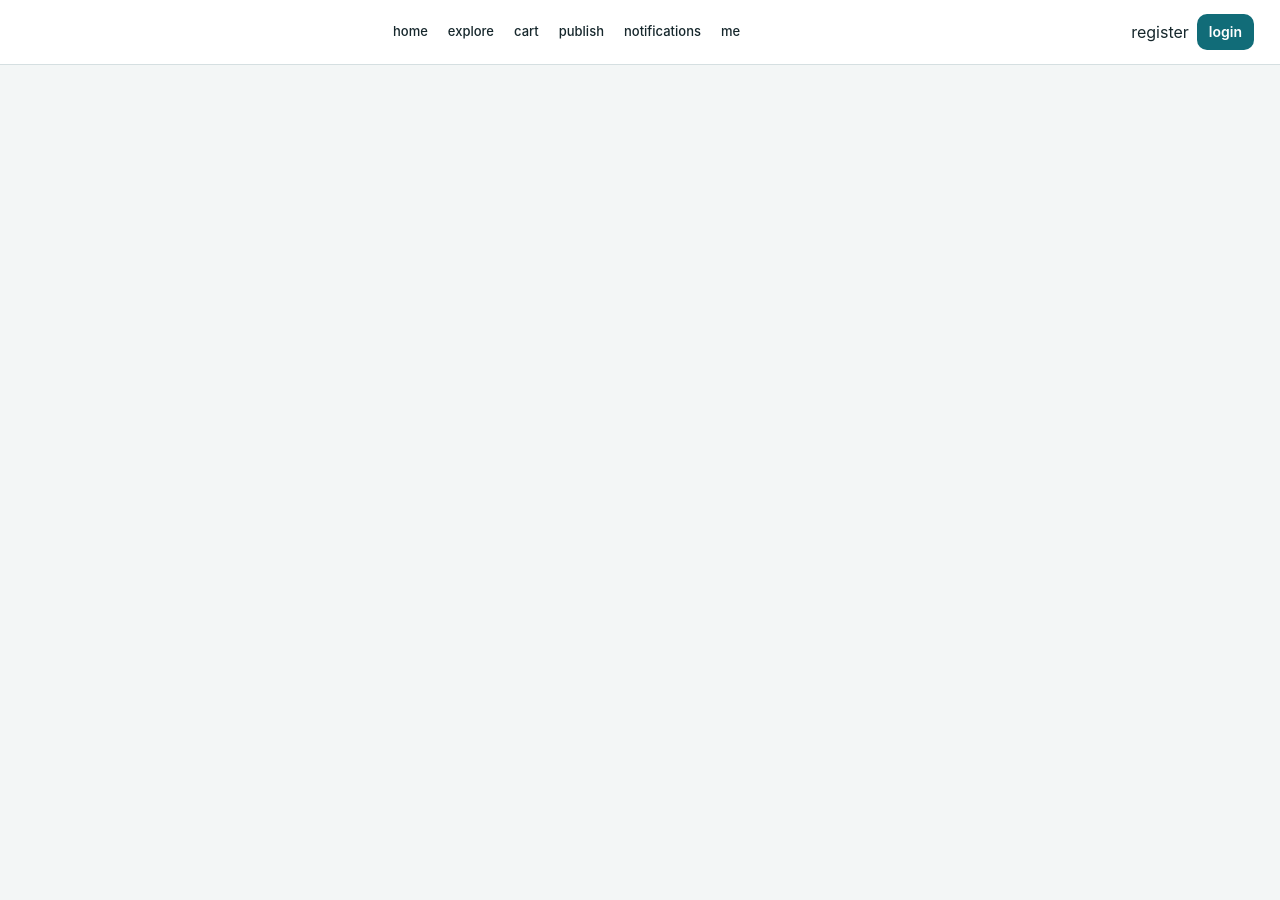
Test: nav email login from /products?category=art&page=2 redirects to /products?category=art&page=2
Click the button "login". click: (1225, 32)
box: [1197, 14, 1254, 50]
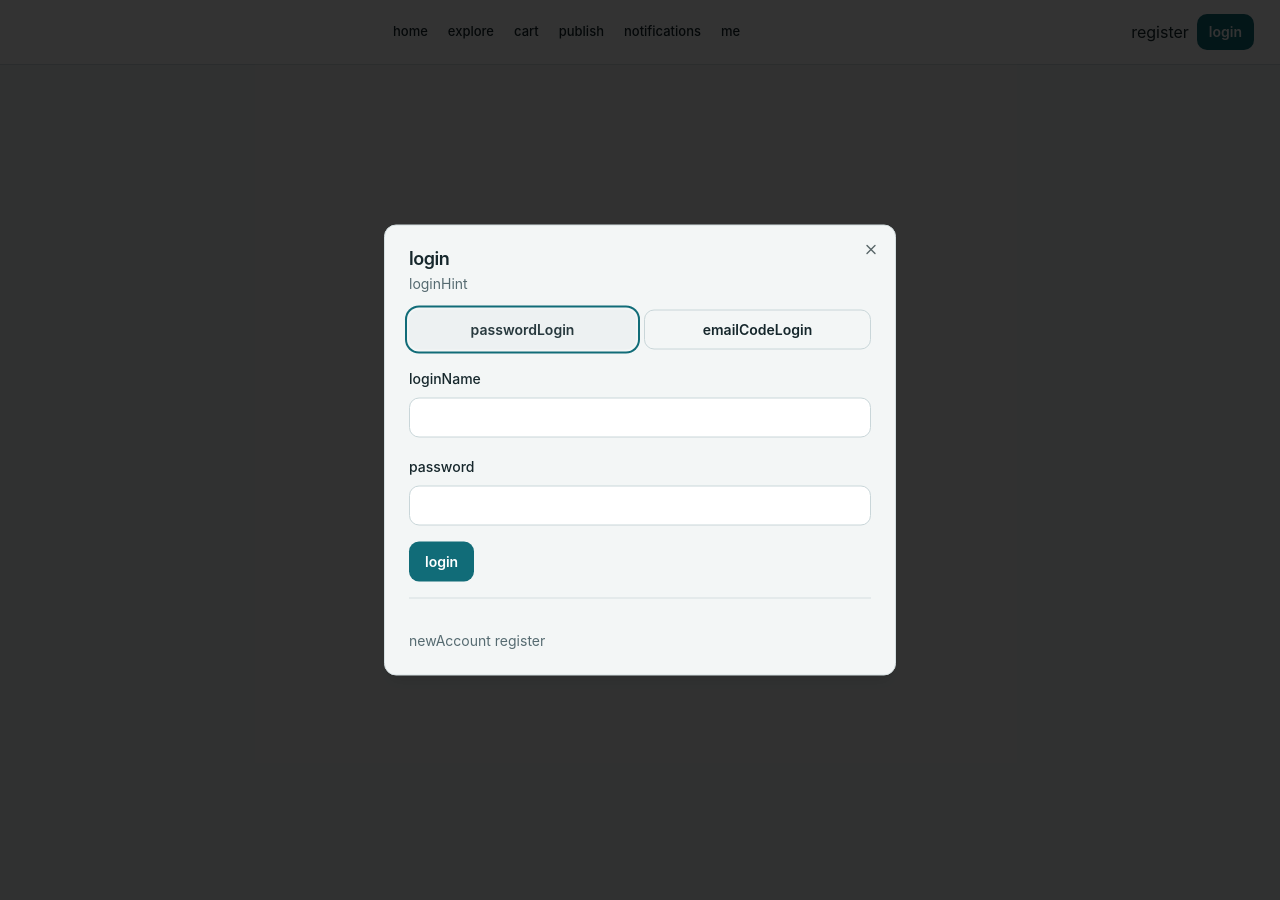
Click the button "emailCodeLogin". click: (758, 330)
box: [644, 310, 871, 350]
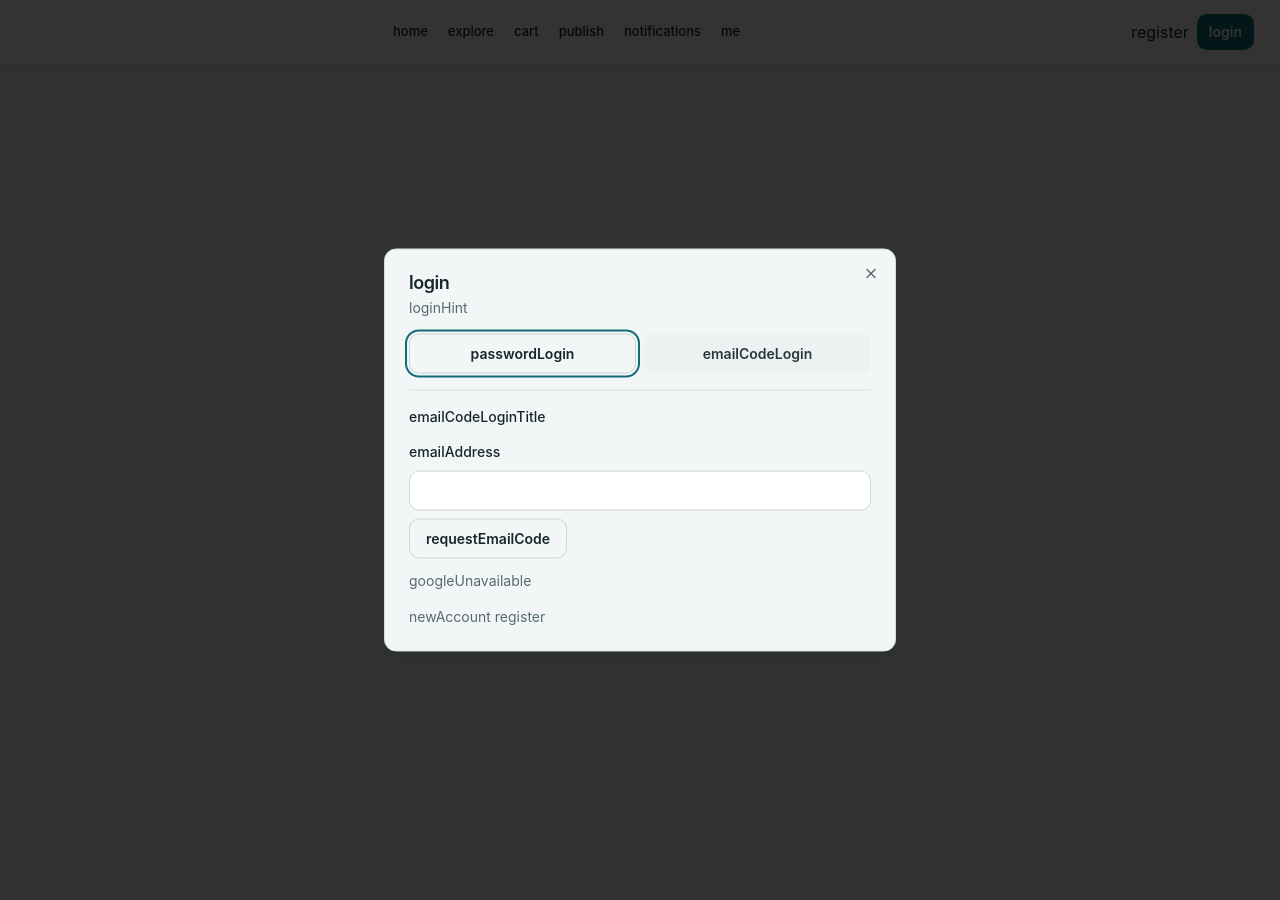
Type "buyer@gmail.com" into the field labelled "emailAddress". click: (640, 490)
box: [409, 470, 871, 510]
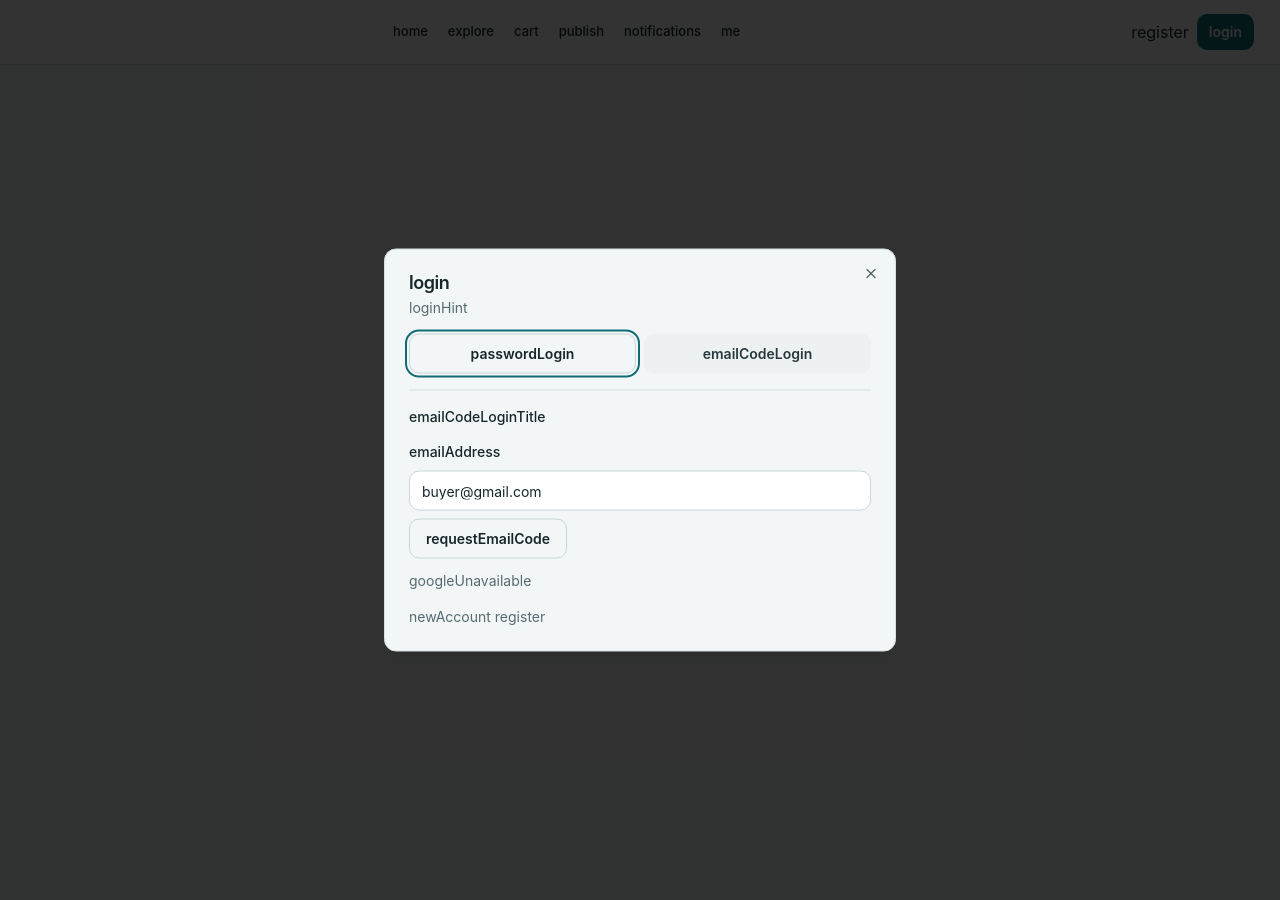
Click the button "requestEmailCode". click: (488, 538)
box: [409, 518, 567, 558]
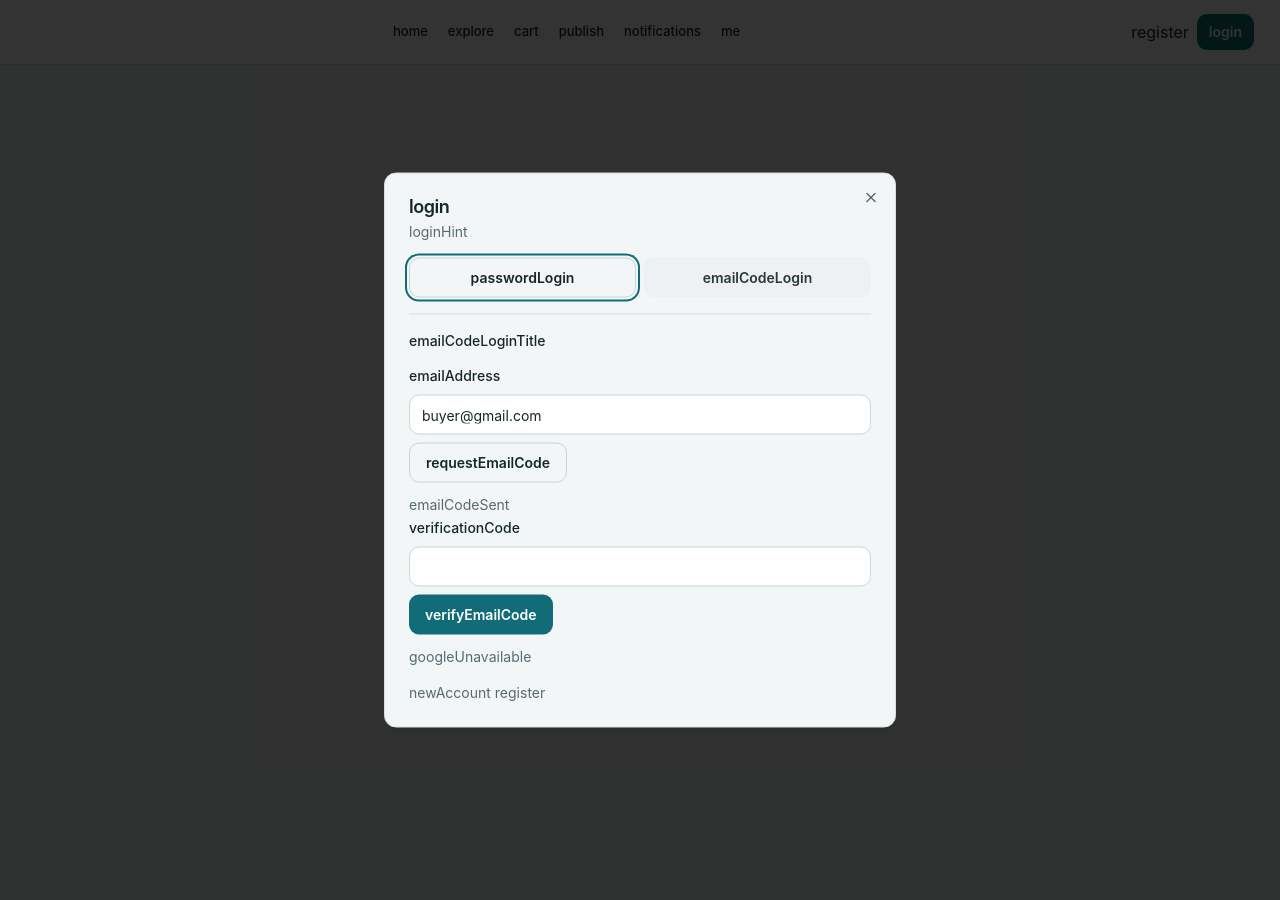
Type "123456" into the field labelled "verificationCode". click: (640, 566)
box: [409, 546, 871, 586]
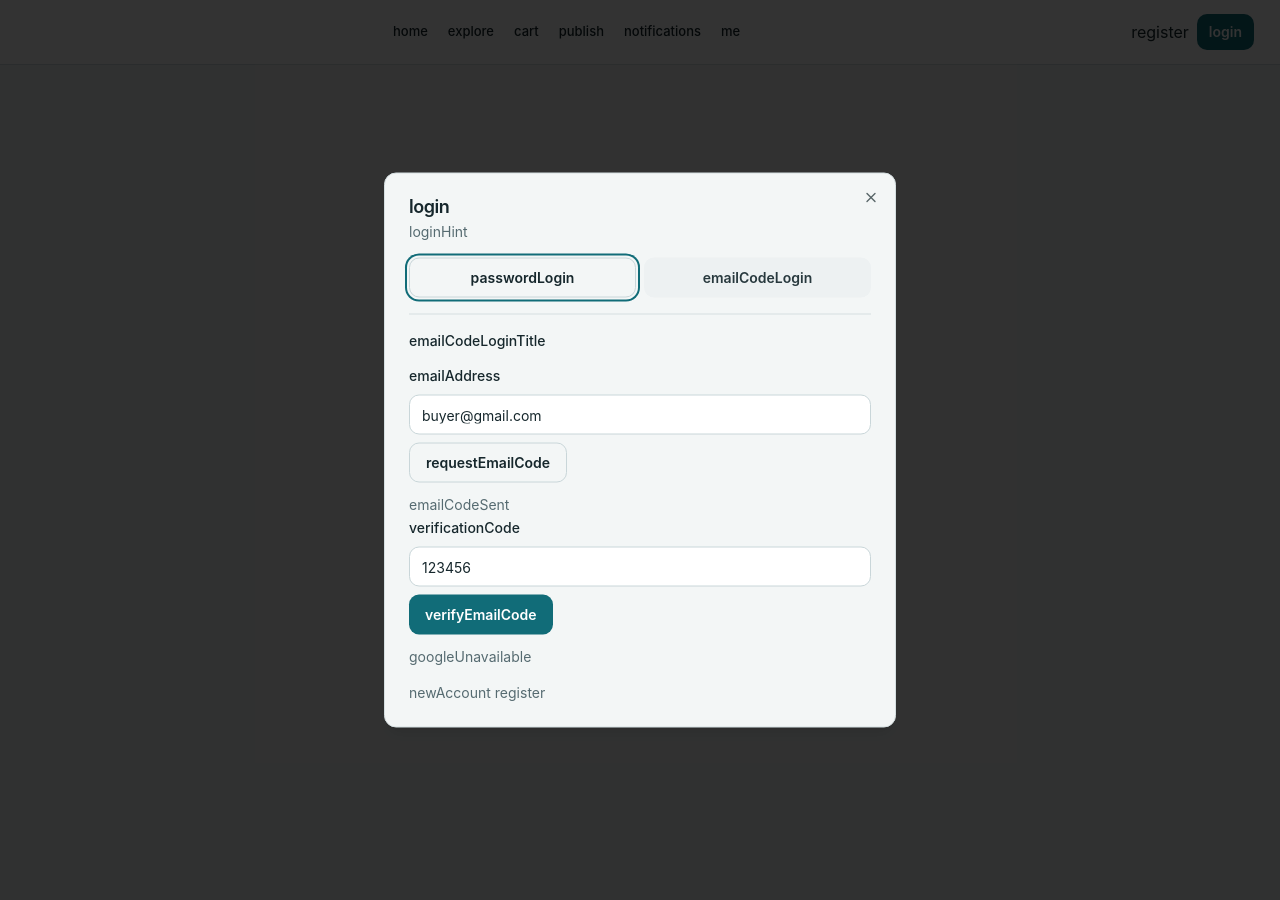
Click the button "verifyEmailCode". click: (481, 614)
box: [409, 594, 553, 634]
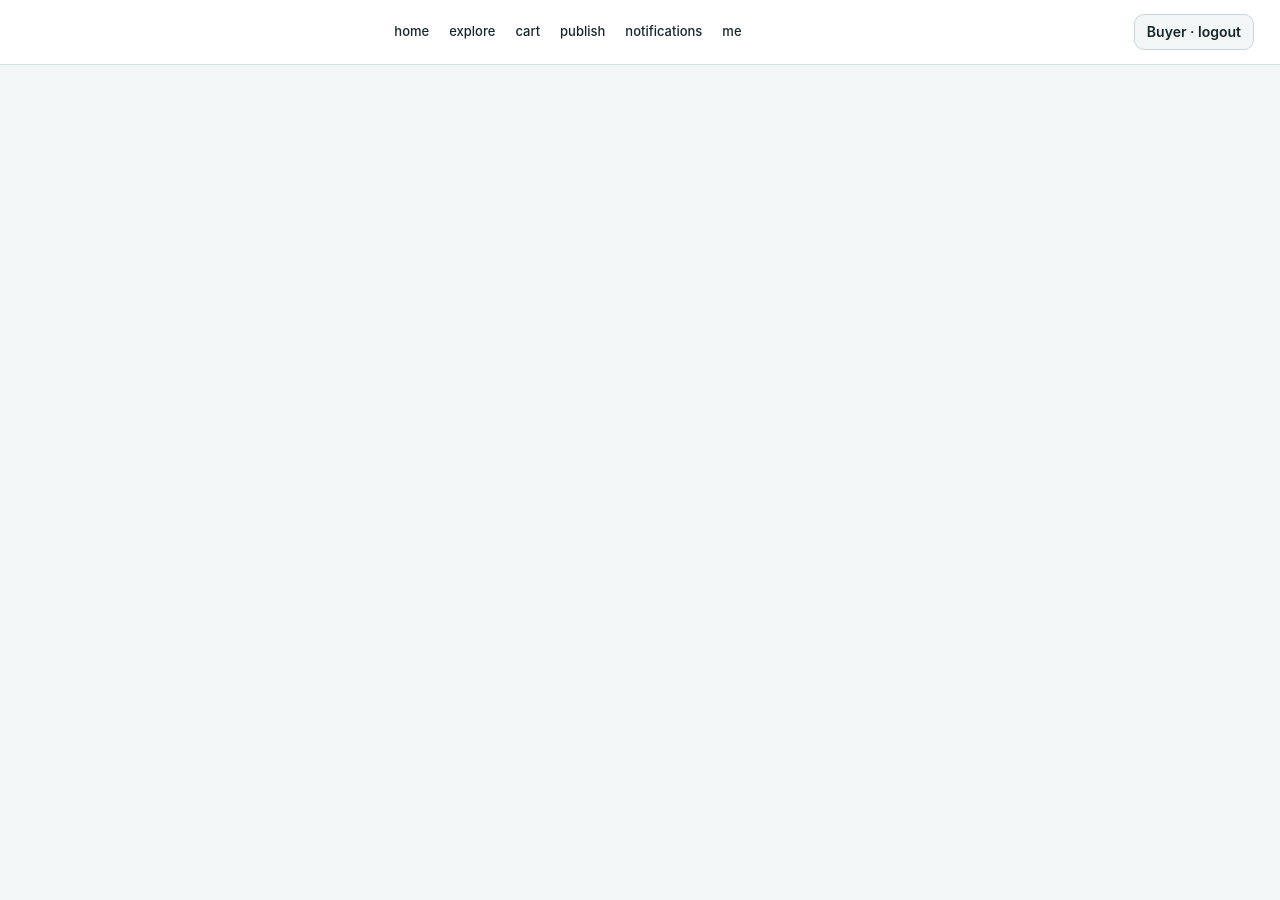
Check: the dialog is gone
